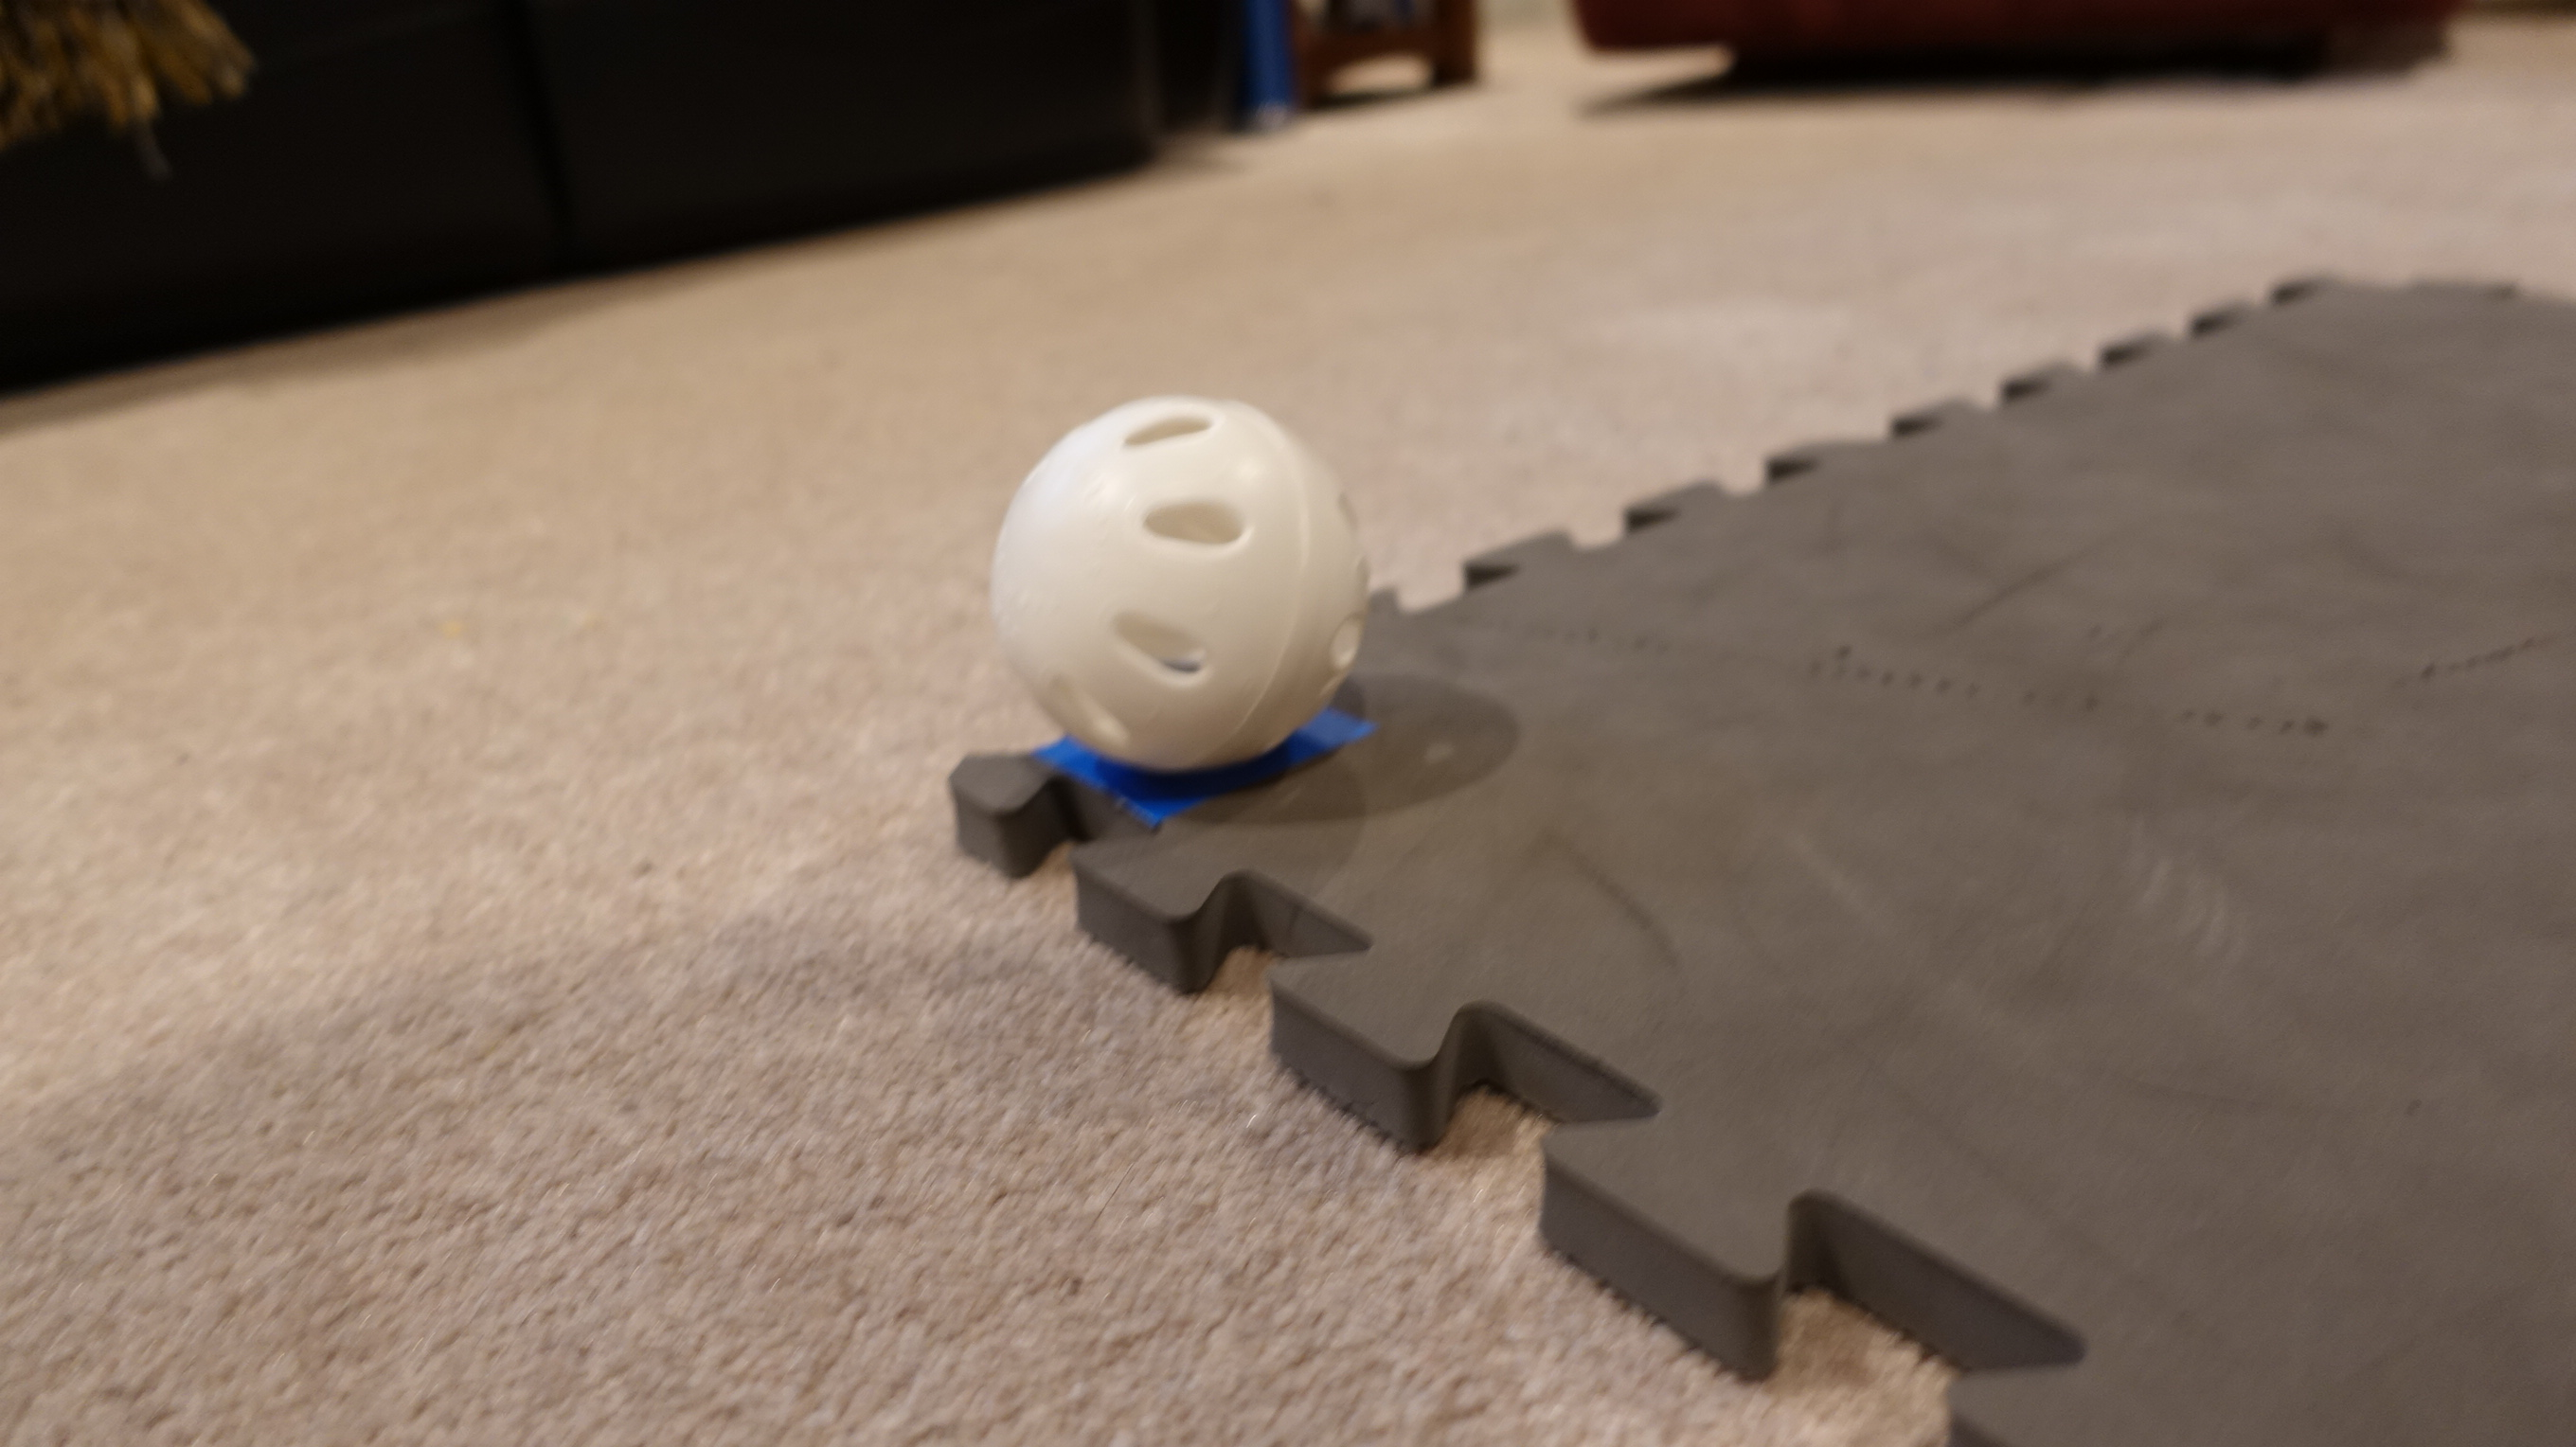silver: (994, 393, 1371, 775)
